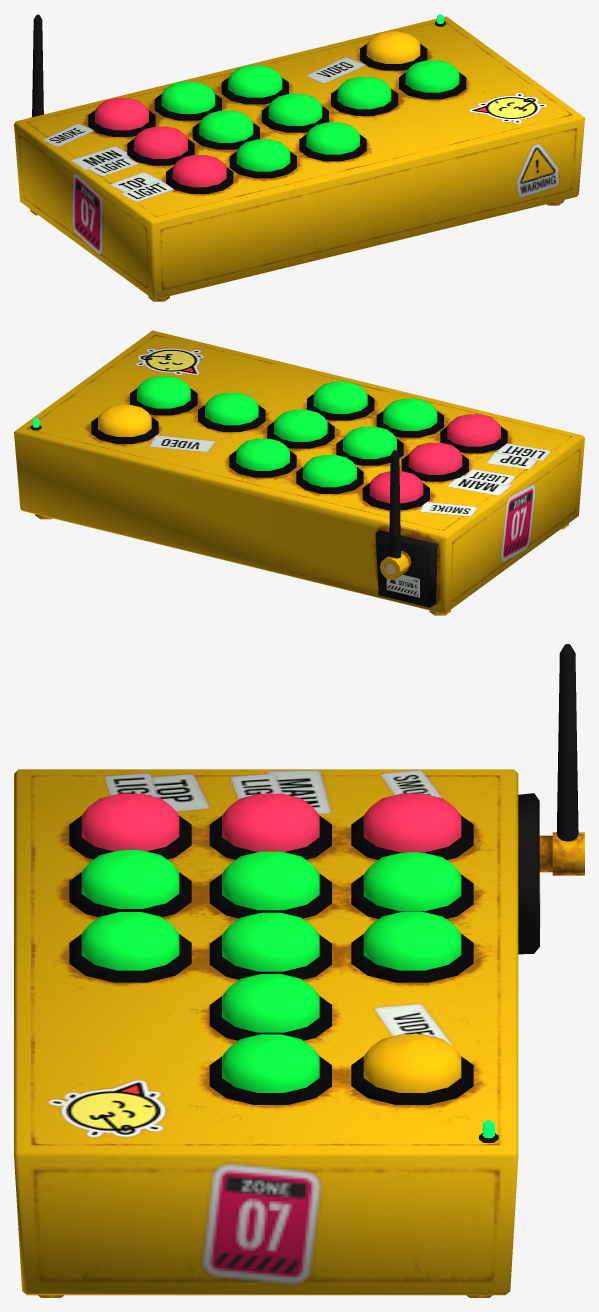
File: console.glb
3 views of the same model, one above another, from view 1: azimuth 30°, elevation 25°; view 2: azimuth 150°, elevation 25°; view 3: azimuth 270°, elevation 25° (orthographic). The views are drawn at different scales.
Visible parts, largest first — view 1: Party Button_LOW, Party Button_LOW.019, Party Button_LOW.015, Party Button_LOW.017, Party Button_LOW.013, Party Button_LOW.023, Party Button_LOW.009, Party Button_LOW.003, Party Button_LOW.005, Party Button_LOW.011, Party Button_LOW.007, Party Button_LOW.021 (+1 smaller); view 2: Party Button_LOW, Party Button_LOW.007, Party Button_LOW.019, Party Button_LOW.021, Party Button_LOW.013, Party Button_LOW.003, Party Button_LOW.015, Party Button_LOW.017, Party Button_LOW.005, Party Button_LOW.011, Party Button_LOW.009, Party Button_LOW.023 (+1 smaller); view 3: Party Button_LOW, Party Button_LOW.003, Party Button_LOW.005, Party Button_LOW.001, Party Button_LOW.009, Party Button_LOW.023, Party Button_LOW.011, Party Button_LOW.021, Party Button_LOW.019, Party Button_LOW.007, Party Button_LOW.015, Party Button_LOW.013 (+1 smaller).
Part boxes in pixels (bbox=[...]): Party Button_LOW: bbox=[14, 14, 584, 301]; Party Button_LOW.019: bbox=[236, 139, 290, 171]; Party Button_LOW.015: bbox=[405, 60, 459, 92]; Party Button_LOW.017: bbox=[172, 155, 226, 187]; Party Button_LOW.013: bbox=[337, 77, 391, 109]; Party Button_LOW.023: bbox=[366, 31, 420, 63]; Party Button_LOW.009: bbox=[199, 110, 253, 142]; Party Button_LOW.003: bbox=[161, 81, 215, 113]; Party Button_LOW.005: bbox=[228, 65, 282, 97]; Party Button_LOW.011: bbox=[268, 93, 322, 125]; Party Button_LOW.007: bbox=[134, 126, 187, 158]; Party Button_LOW.021: bbox=[306, 122, 359, 154]; Party Button_LOW: bbox=[14, 330, 584, 615]; Party Button_LOW.007: bbox=[408, 442, 462, 474]; Party Button_LOW.019: bbox=[383, 398, 437, 430]; Party Button_LOW.021: bbox=[313, 381, 367, 413]; Party Button_LOW.013: bbox=[205, 393, 258, 425]; Party Button_LOW.003: bbox=[303, 455, 356, 487]; Party Button_LOW.015: bbox=[137, 376, 190, 408]; Party Button_LOW.017: bbox=[447, 414, 500, 446]; Party Button_LOW.005: bbox=[236, 438, 289, 470]; Party Button_LOW.011: bbox=[274, 409, 327, 441]; Party Button_LOW.009: bbox=[343, 426, 396, 458]; Party Button_LOW.023: bbox=[98, 404, 151, 436]; Party Button_LOW: bbox=[14, 644, 584, 1297]; Party Button_LOW.003: bbox=[363, 852, 461, 911]; Party Button_LOW.005: bbox=[363, 911, 461, 970]; Party Button_LOW.001: bbox=[363, 793, 461, 852]; Party Button_LOW.009: bbox=[222, 851, 319, 910]; Party Button_LOW.023: bbox=[363, 1034, 461, 1092]; Party Button_LOW.011: bbox=[222, 912, 319, 971]; Party Button_LOW.021: bbox=[81, 912, 179, 970]; Party Button_LOW.019: bbox=[81, 850, 179, 908]; Party Button_LOW.007: bbox=[222, 793, 319, 852]; Party Button_LOW.015: bbox=[222, 1034, 319, 1092]; Party Button_LOW.013: bbox=[222, 974, 319, 1032].
Size of the model in its own units: 1.26 by 0.4792 by 0.7881.
Materials: 1 (1 with a texture image).
